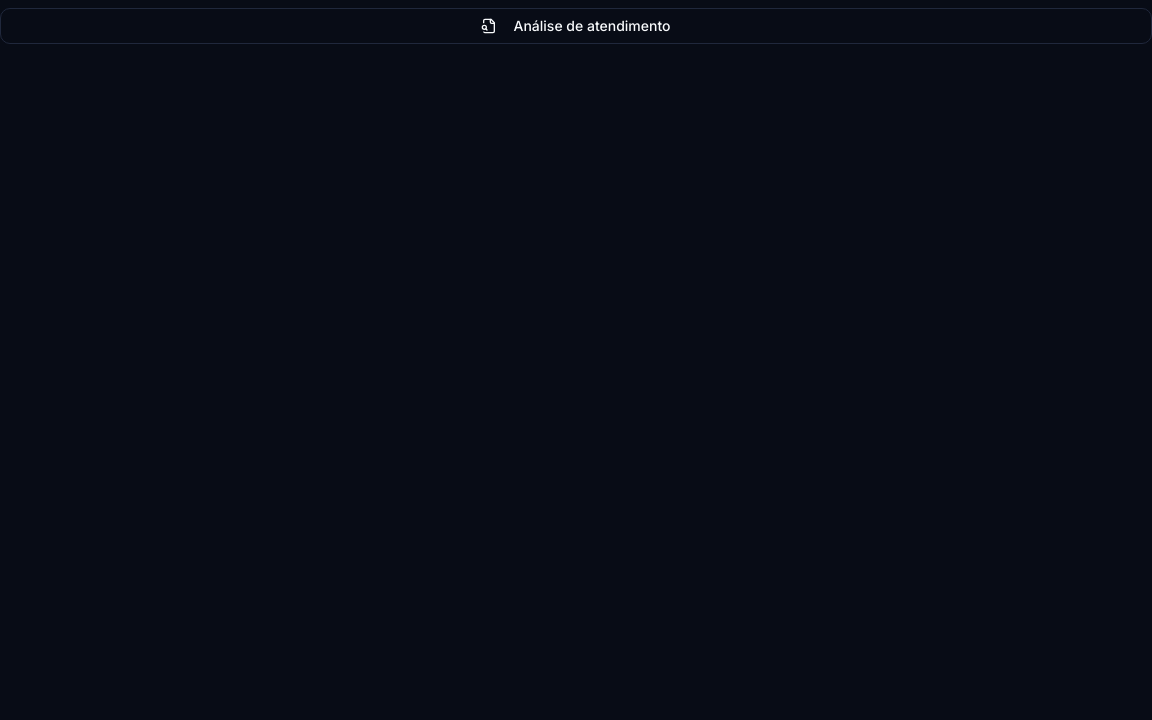
Test case: Inbox analysis popup › opens with an editable initial message and blocks empty requests
Click the button "Análise de atendimento" at (576,26), box left=0, top=8, right=1151, bottom=44
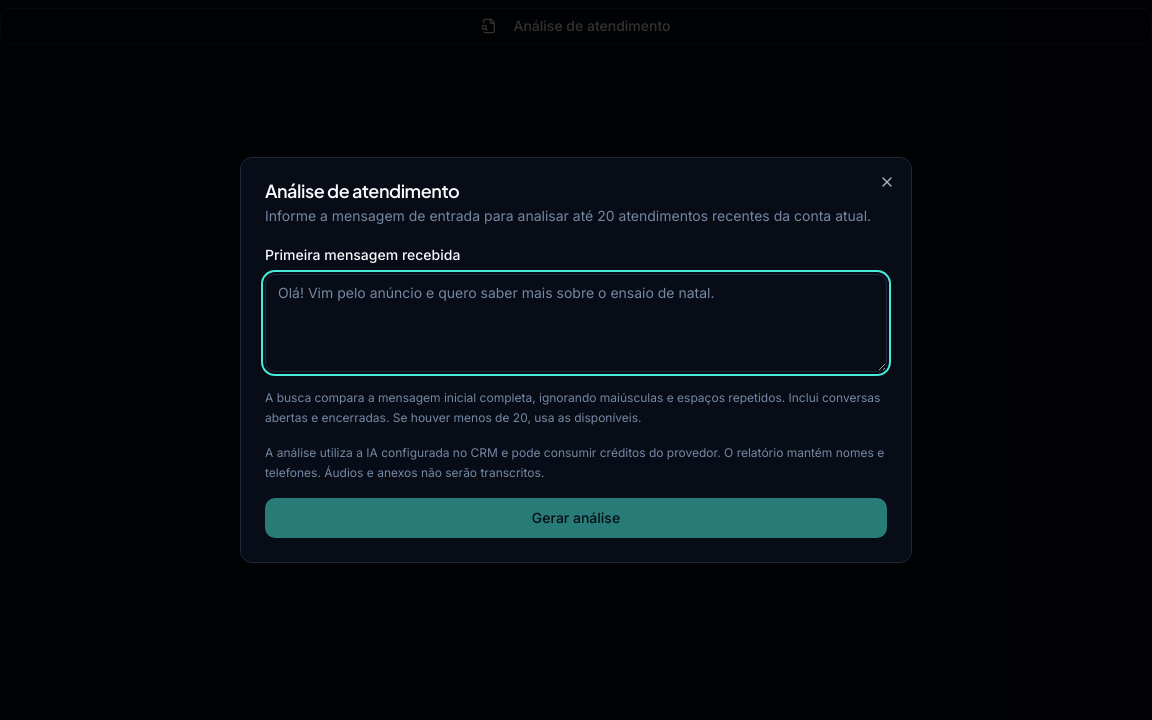
Expected: the text box labelled "Primeira mensagem recebida" is empty, left=265, top=274, right=887, bottom=372
Expected: the button "Gerar análise" is disabled, left=265, top=498, right=887, bottom=538
